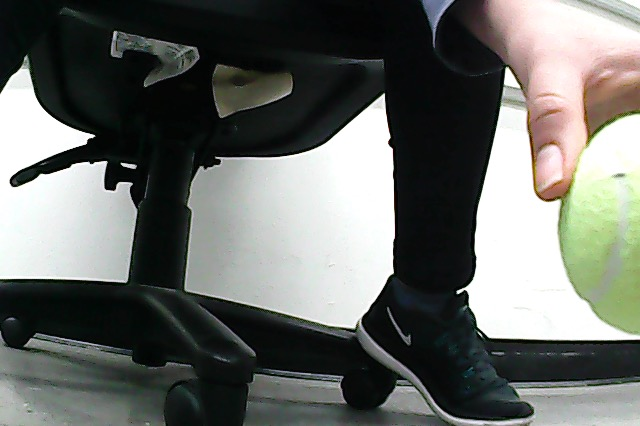ball: (559, 113, 640, 337)
